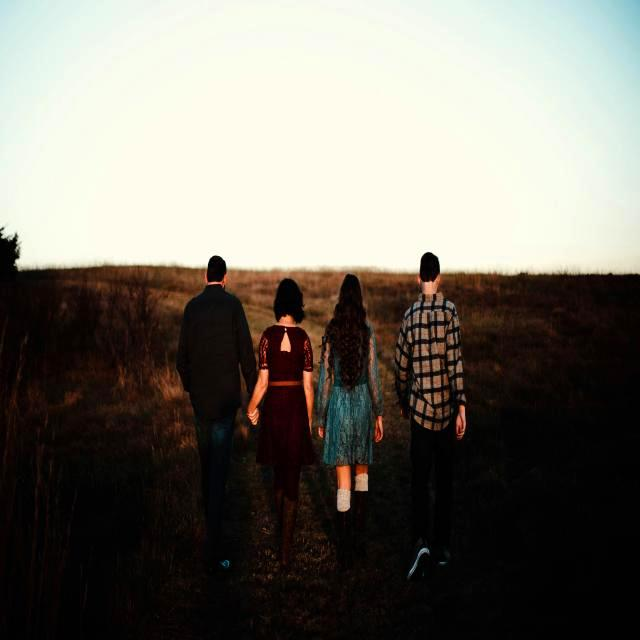no_head_wear: (325, 274, 374, 392), (274, 278, 305, 325), (417, 252, 440, 294), (205, 256, 227, 287)
person: (176, 256, 257, 572), (395, 252, 466, 580), (318, 274, 383, 568), (256, 278, 314, 569)
